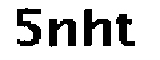5: (12, 5, 44, 48)
h: (82, 7, 112, 54)
n: (46, 16, 80, 50)
t: (115, 11, 143, 51)
